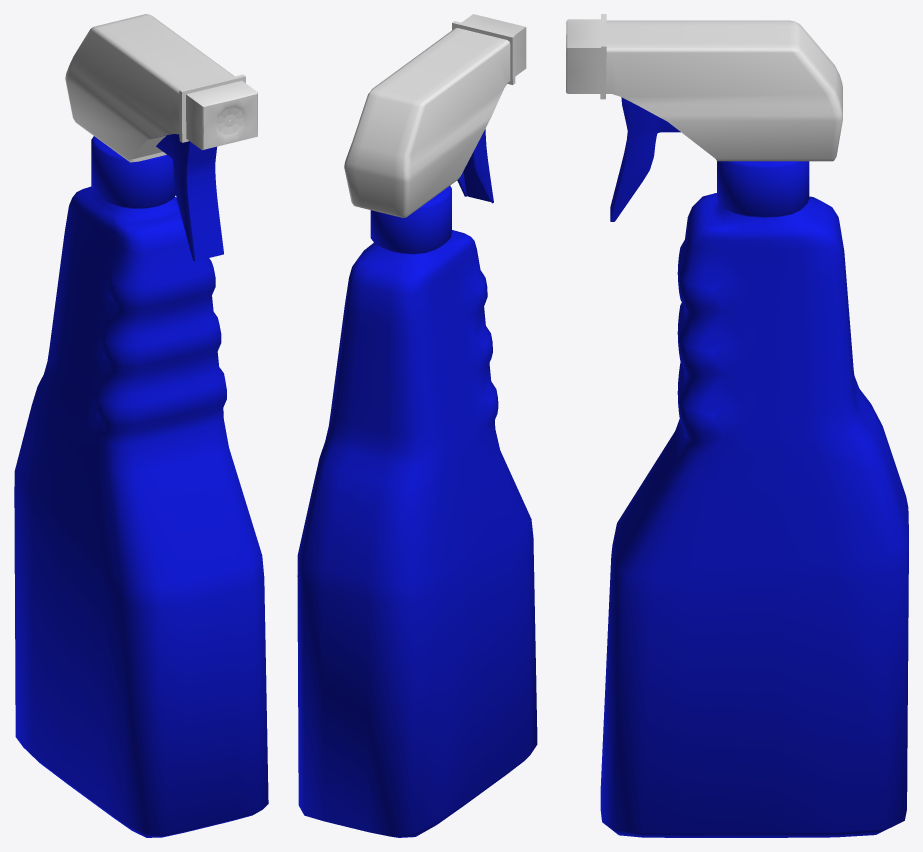
The model's file is disinfectant bottle.fbx.
The picture shows the model from 3 angles, left to right: view 1: azimuth 30°, elevation 25°; view 2: azimuth 150°, elevation 25°; view 3: azimuth 270°, elevation 25°; orthographic projection. The views are drawn at different scales.
Visible parts, largest first — view 1: SprayBottle.003, SprayBottle.001; view 2: SprayBottle.003, SprayBottle.001; view 3: SprayBottle.003, SprayBottle.001.
Part boxes in pixels (x1,y1,x2,y2): SprayBottle.003: [14, 134, 268, 837]; SprayBottle.001: [65, 14, 257, 162]; SprayBottle.003: [297, 129, 537, 837]; SprayBottle.001: [344, 14, 526, 217]; SprayBottle.003: [600, 97, 908, 837]; SprayBottle.001: [566, 14, 842, 161].
Bounding box in the file's own units: 67.13 × 350 × 140.
